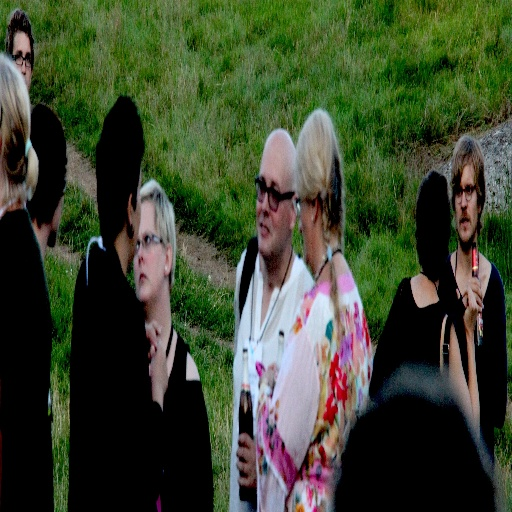hand: (188, 353, 215, 511), (235, 429, 258, 493), (455, 283, 477, 337), (148, 340, 169, 396), (468, 271, 485, 316), (144, 317, 161, 357), (266, 358, 282, 379), (257, 369, 274, 386)
